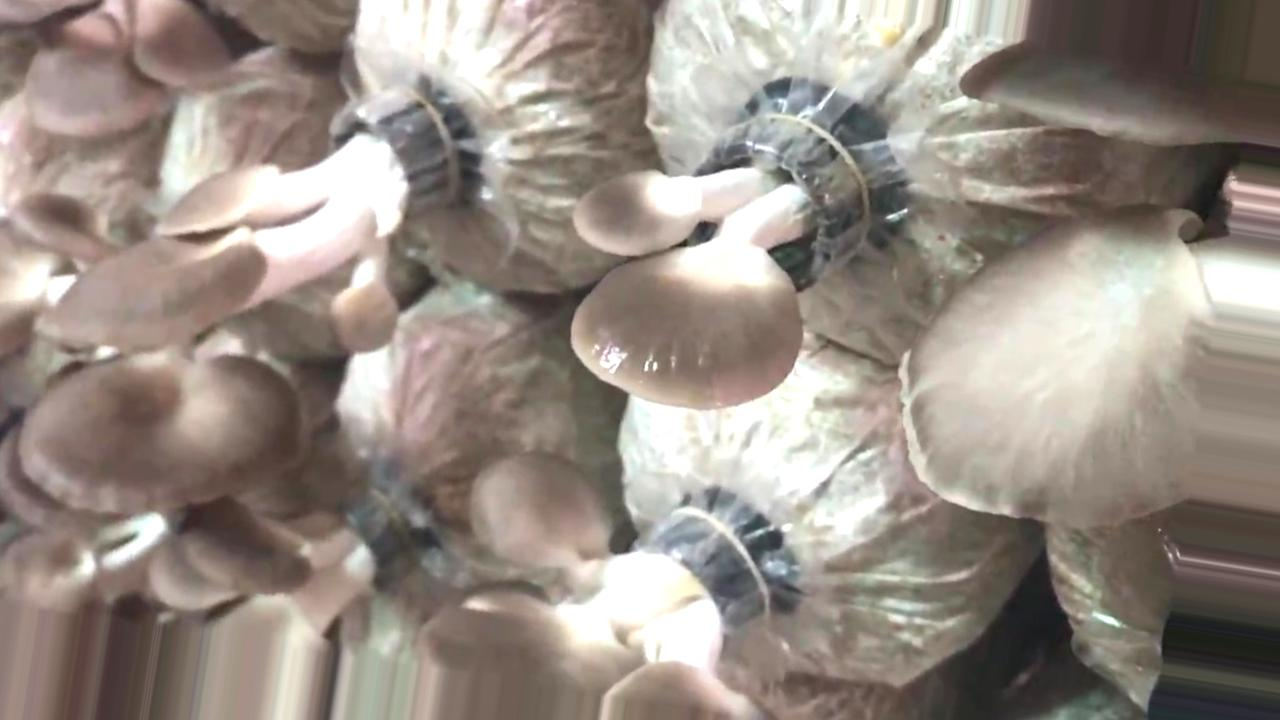nam: (32, 98, 457, 384), (905, 199, 1280, 520), (564, 93, 893, 412), (424, 453, 784, 720), (145, 489, 405, 720), (24, 346, 302, 510)
